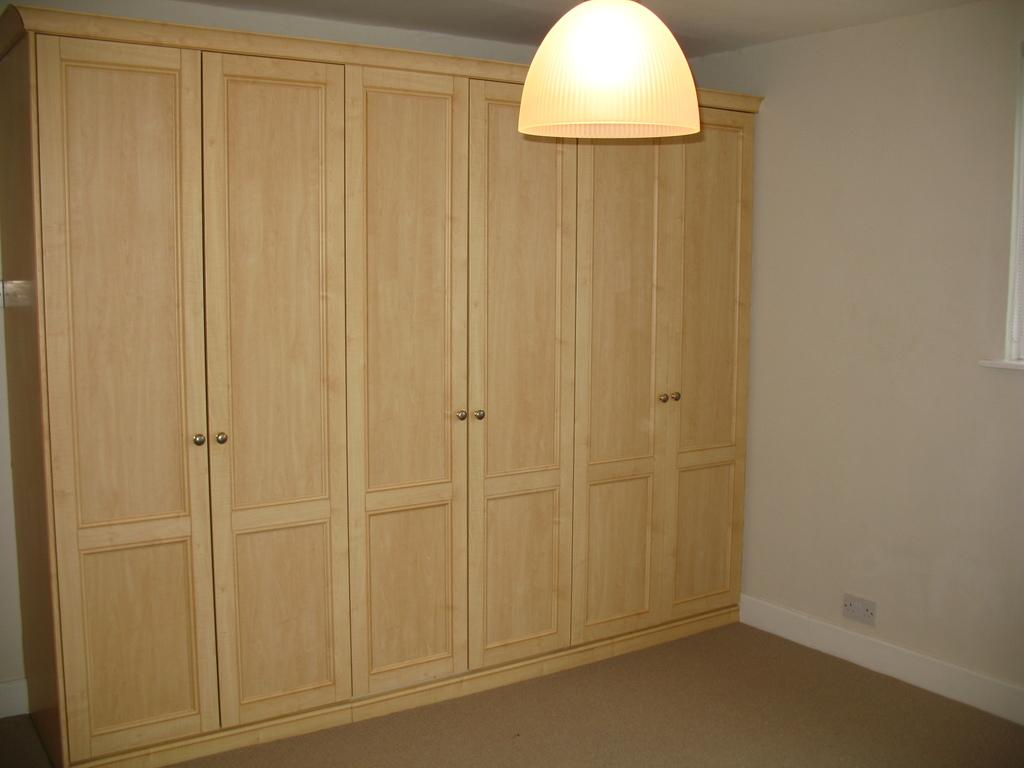cabinet_door: (38, 44, 216, 756), (208, 52, 350, 728), (350, 65, 472, 673), (470, 84, 572, 685), (572, 105, 657, 628), (676, 131, 750, 642)
handle: (182, 428, 212, 456), (214, 424, 230, 458), (667, 378, 684, 408), (458, 401, 472, 436), (472, 406, 487, 434), (658, 386, 670, 408)
